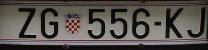-: (154, 21, 161, 27)
5: (89, 8, 105, 39), (111, 8, 127, 38)
6: (132, 8, 150, 39)
G: (41, 8, 58, 39)
J: (188, 7, 205, 38)
K: (165, 8, 183, 39)
Z: (18, 7, 37, 38)
